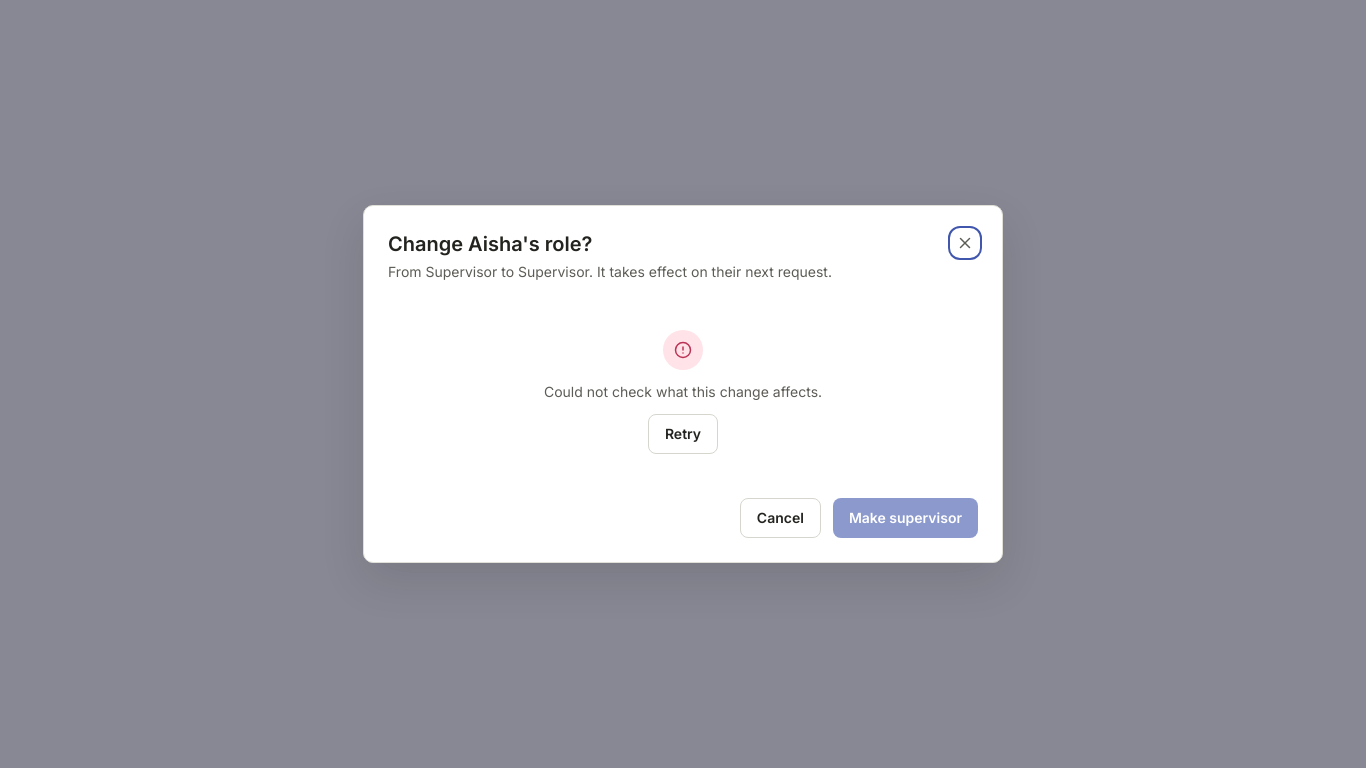
RoleChangeDialog › shows an error with a retry when the preview fails
The image size is (1366, 768).
Expected: the text "Could not check what this change affects." is shown, [544, 382, 822, 402]
Expected: the button "Make supervisor" is disabled, [833, 498, 978, 538]
Click the button "Retry" at [683, 434], box [648, 414, 718, 454]
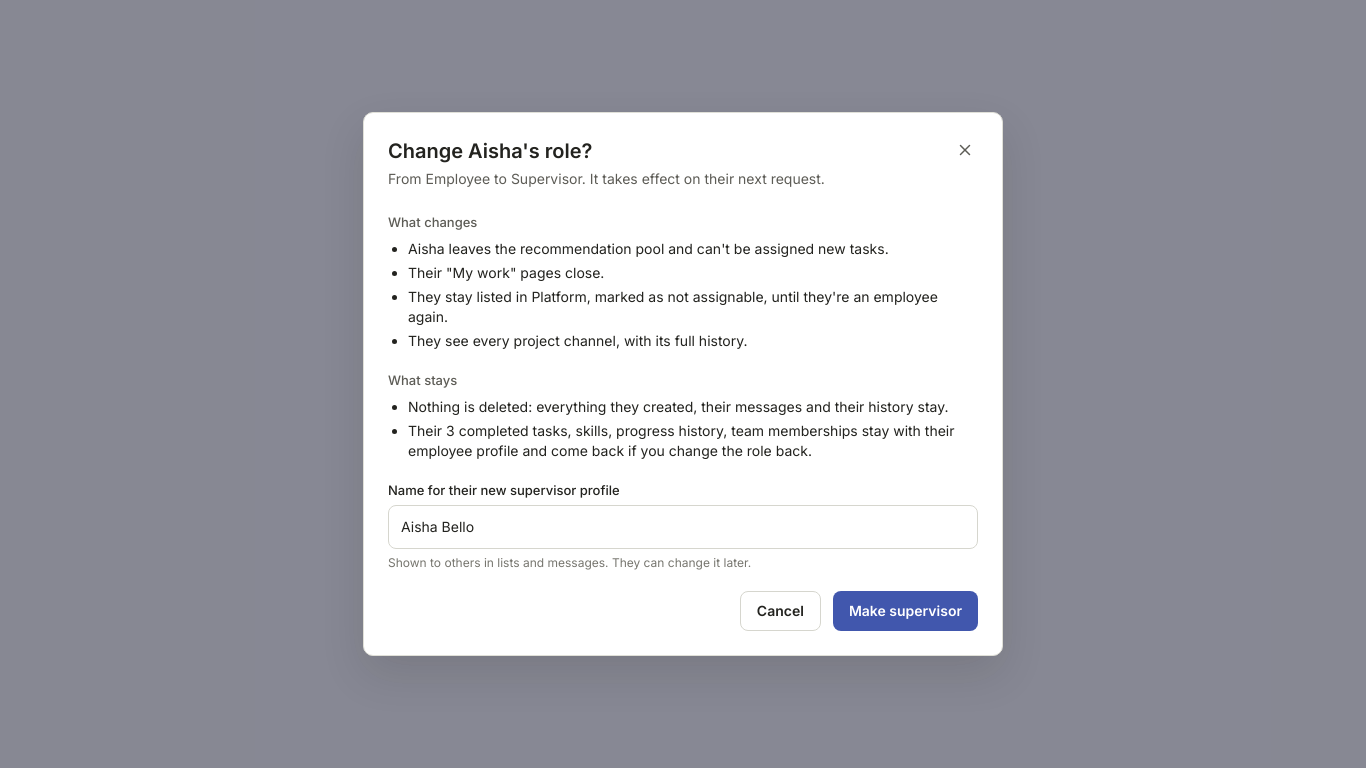
Now the list item "leaves the recommendation pool" is shown, box [408, 240, 889, 257]
